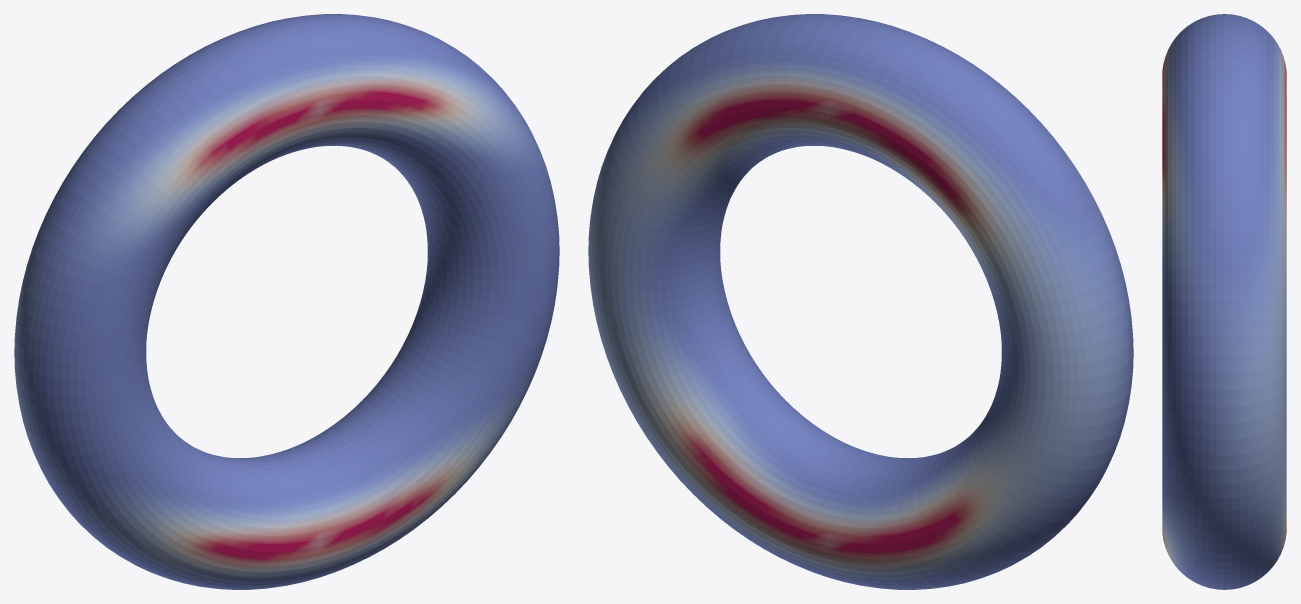
3 views of the same model, side by side, from view 1: azimuth 30°, elevation 25°; view 2: azimuth 150°, elevation 25°; view 3: azimuth 270°, elevation 25° (orthographic). The views are drawn at different scales.
Visible parts, largest first — view 1: world; view 2: world; view 3: world.
Part boxes in pixels (bbox=[...]): world: bbox=[14, 14, 559, 589]; world: bbox=[588, 14, 1133, 589]; world: bbox=[1162, 14, 1286, 589].
Size of the model in its own units: 17.87 by 17.87 by 3.86.
